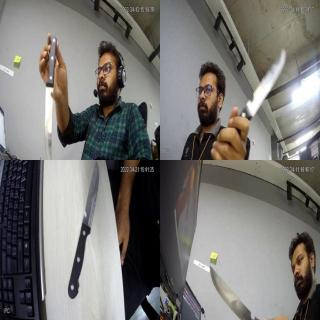knife: (61, 162, 102, 298), (242, 51, 288, 132), (210, 261, 260, 319), (44, 64, 56, 160)
